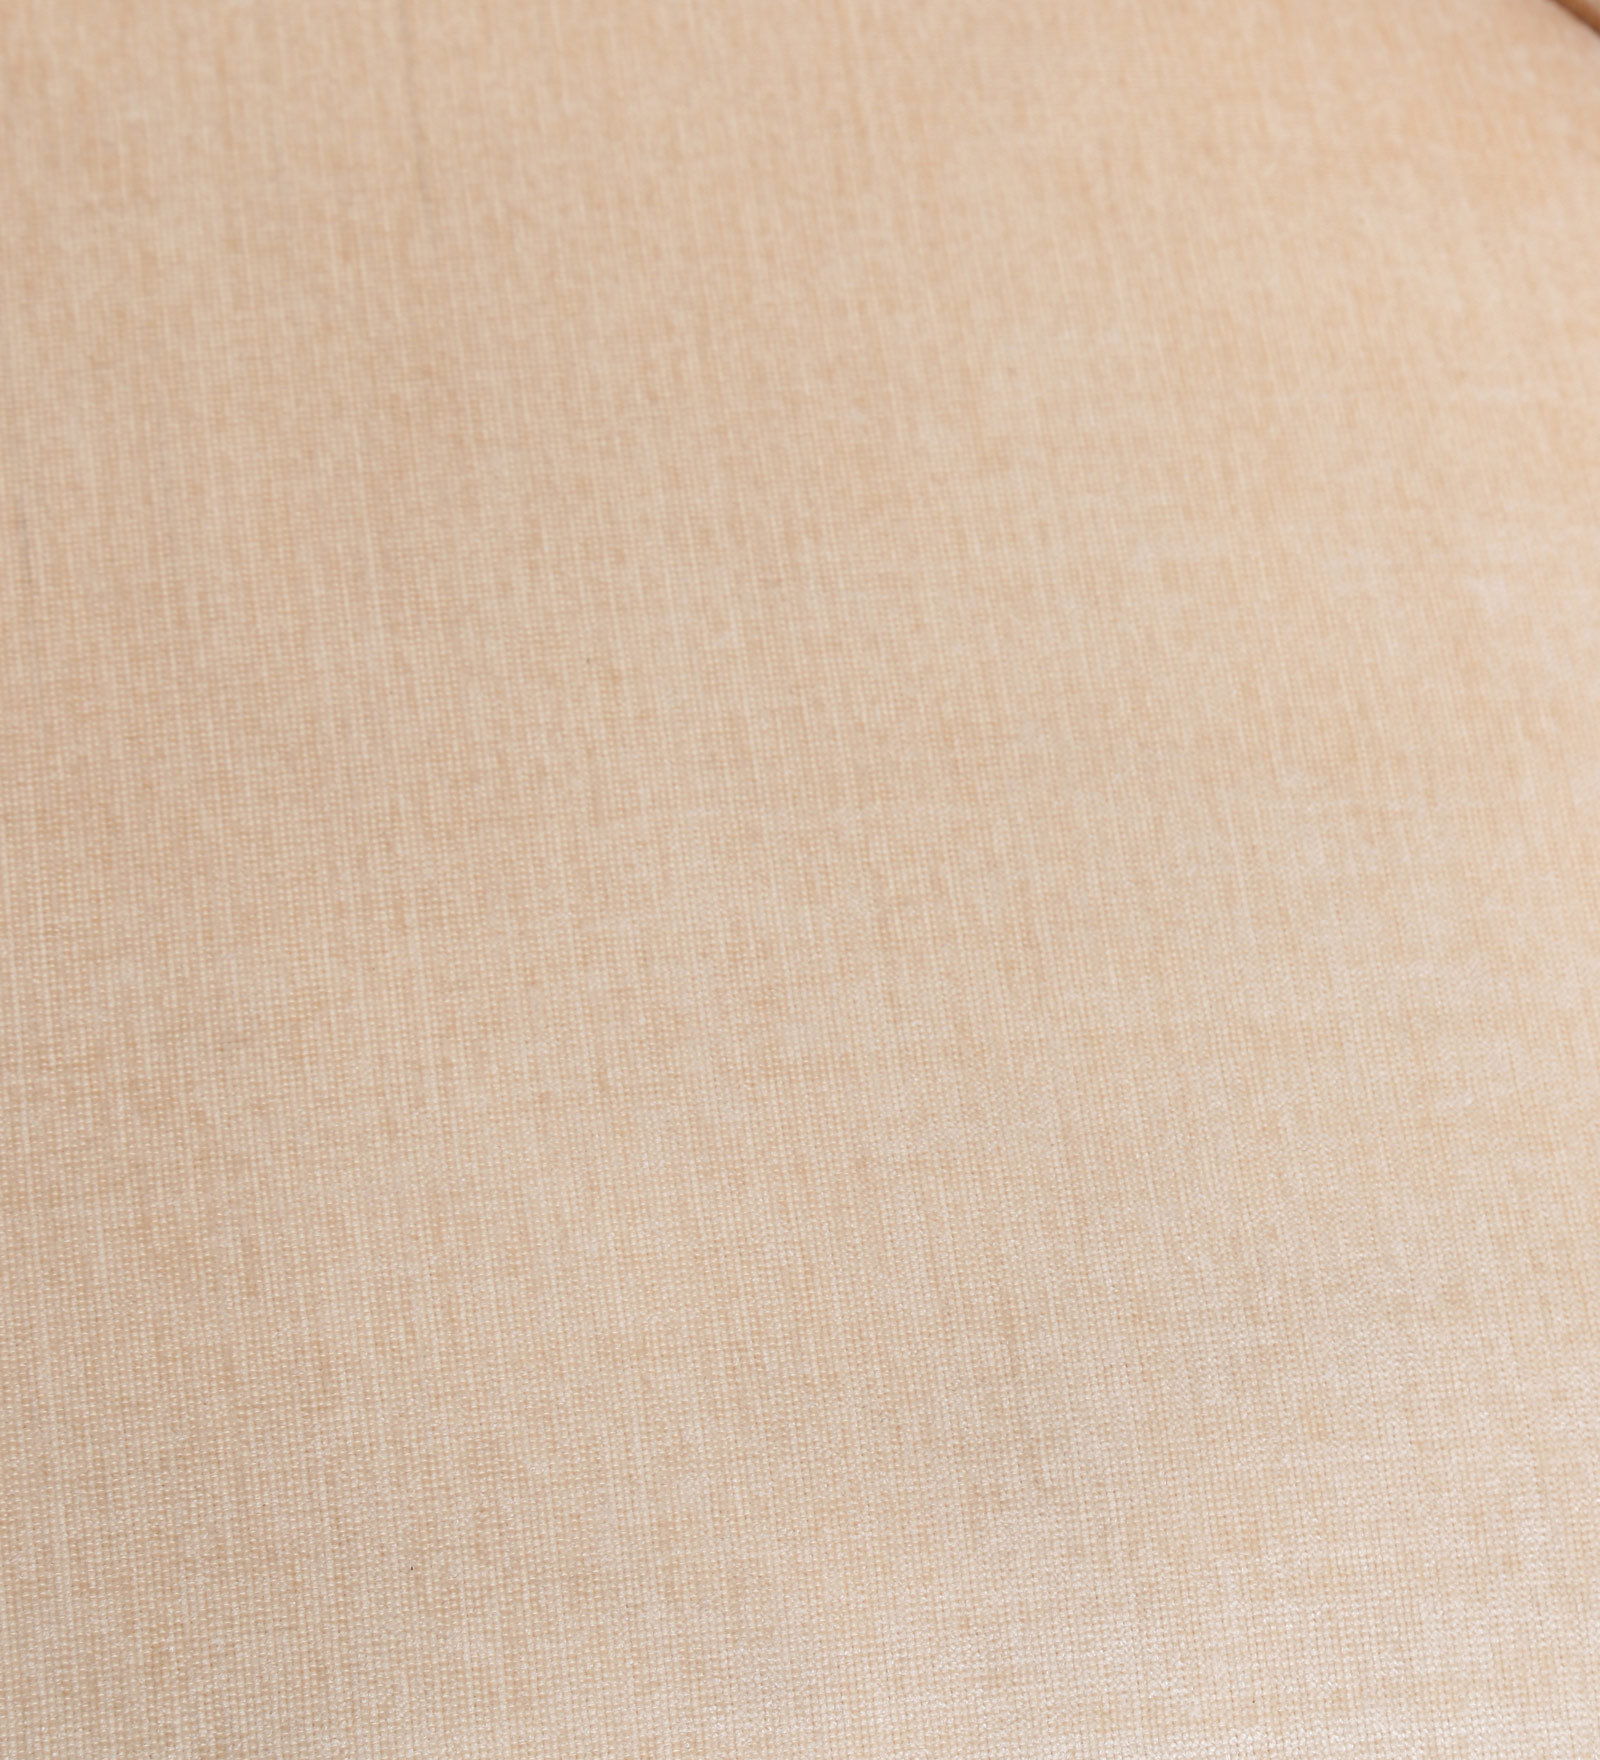Stalley Arm Chair in Cream Color with Honey Oak Finish by Amberville: (115, 172, 1500, 1604)
